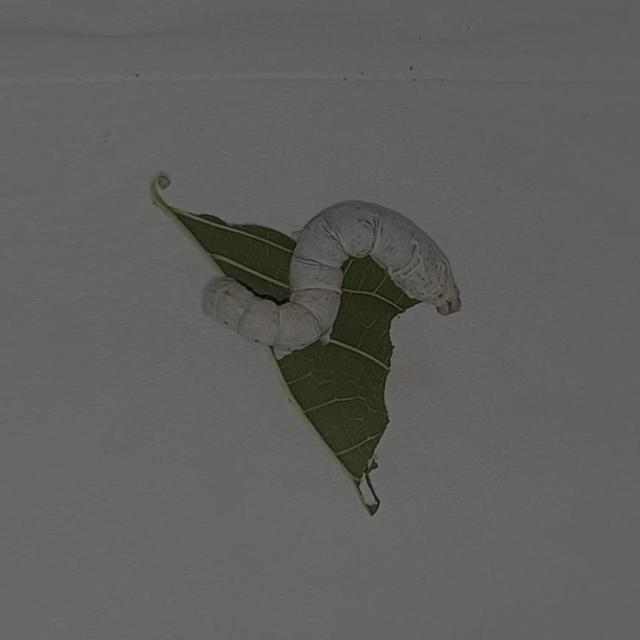Healthy: (199, 186, 469, 362)
